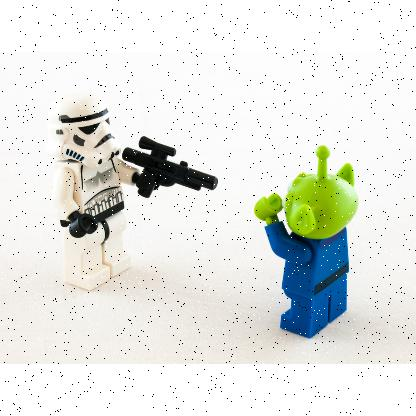gun: (123, 137, 217, 197)
